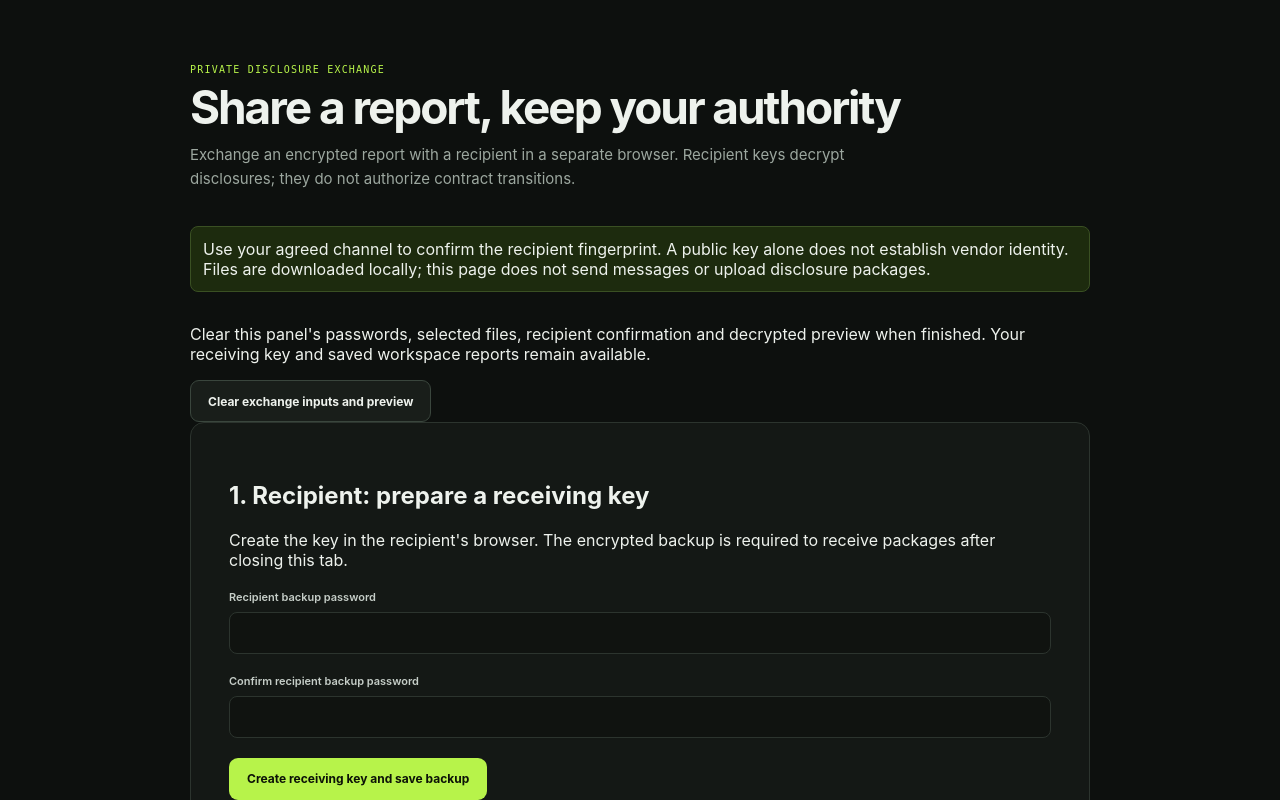
Test case: retries the same retained receiving key after encryption failure
Type "Synthetic receiving password" into the password field labelled "Recipient backup password".
click(640, 633); type("Synthetic receiving password")  # box 229,612 -> 1051,654
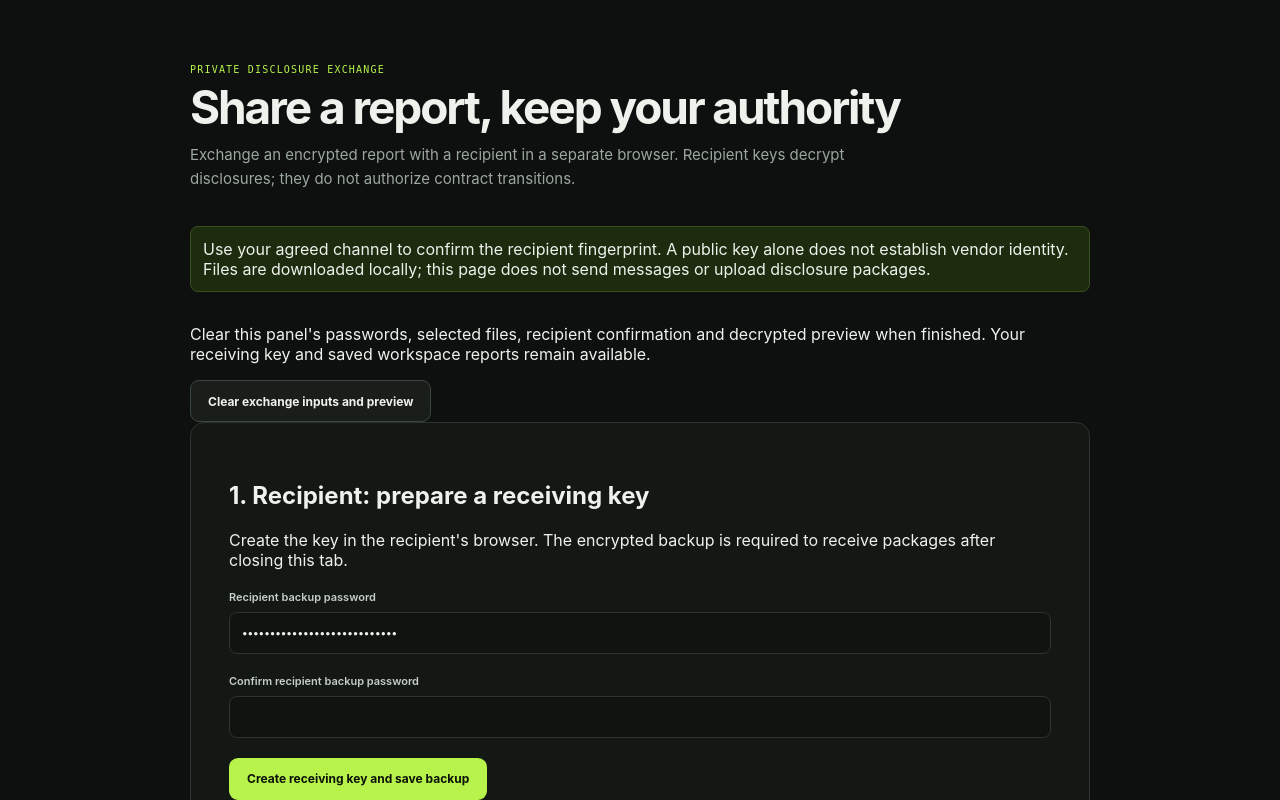
Type "Synthetic receiving password" into the password field labelled "Confirm recipient backup password".
click(640, 717); type("Synthetic receiving password")  # box 229,696 -> 1051,738
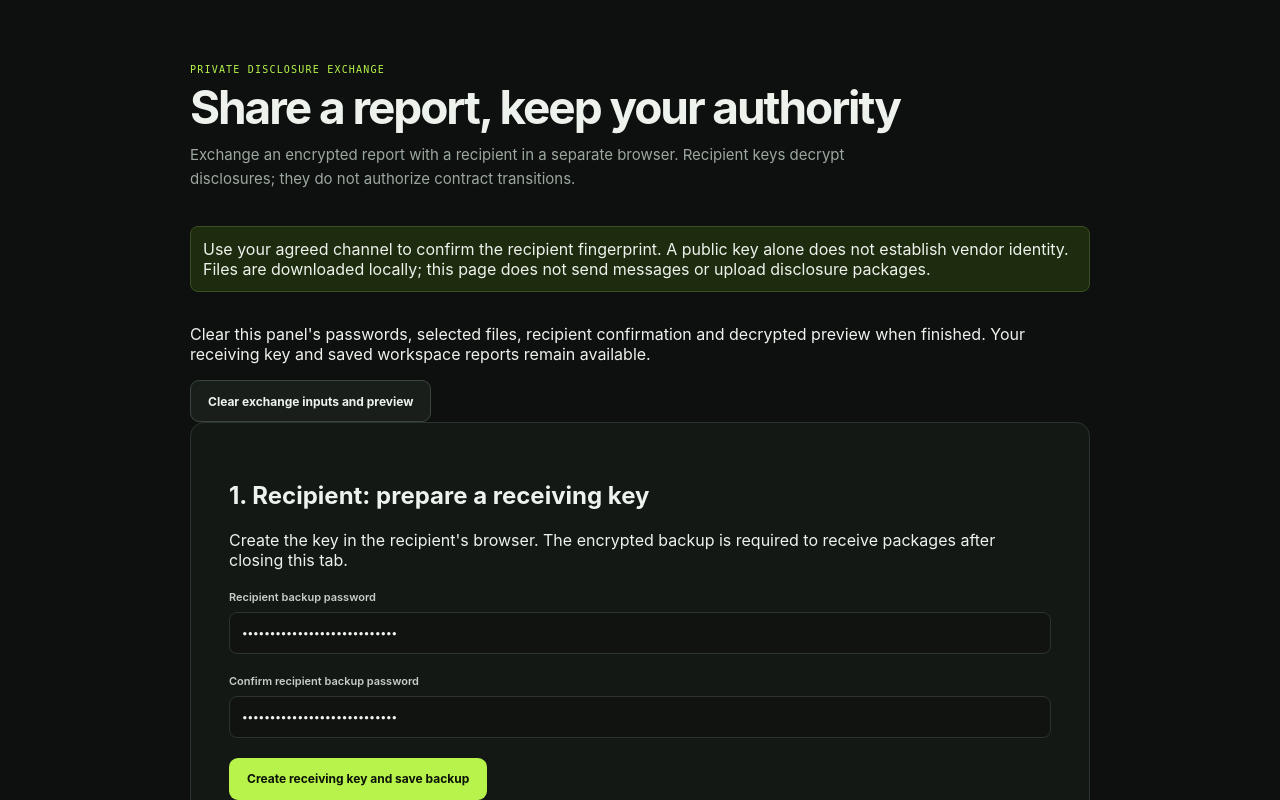
Submit the form named "Create receiving key and save backup", box 229,530 -> 1051,799
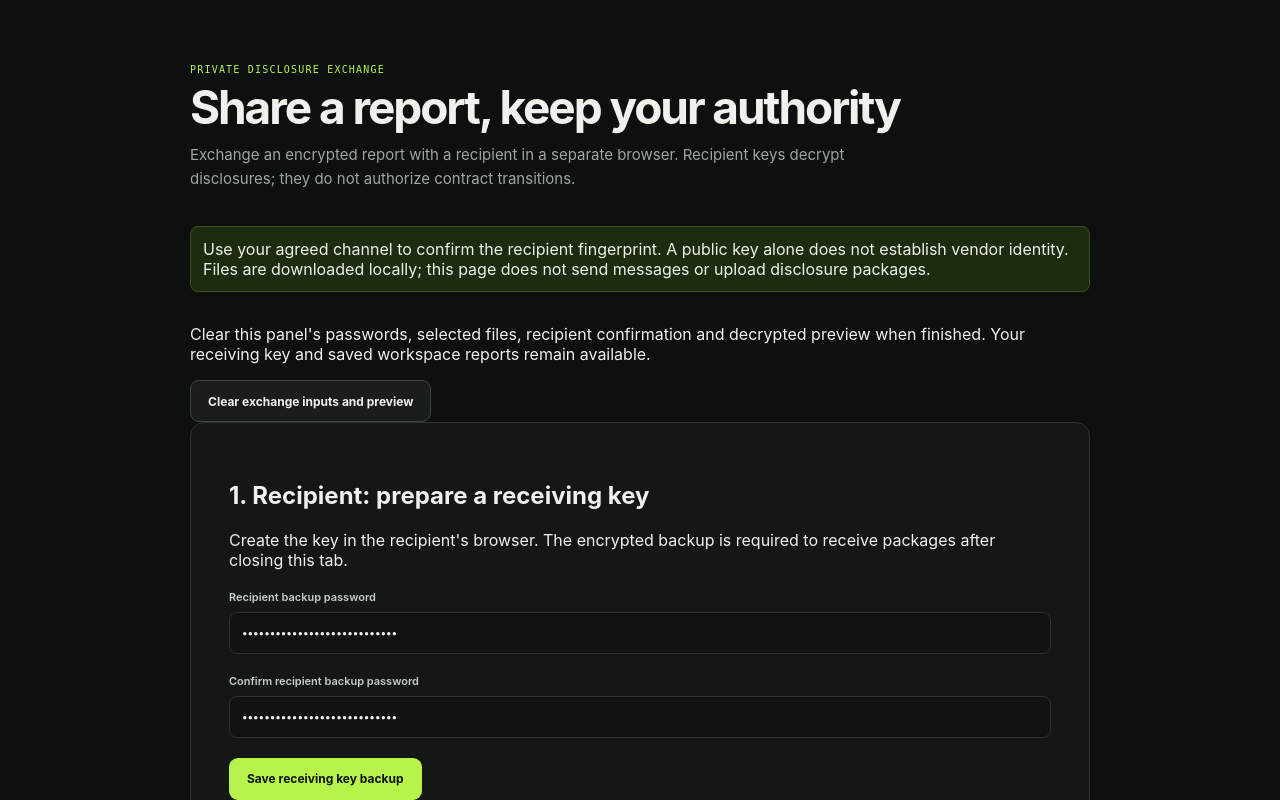
Click the button "Save receiving key backup".
click(325, 779)  # box 229,758 -> 422,799
(page scrolled)
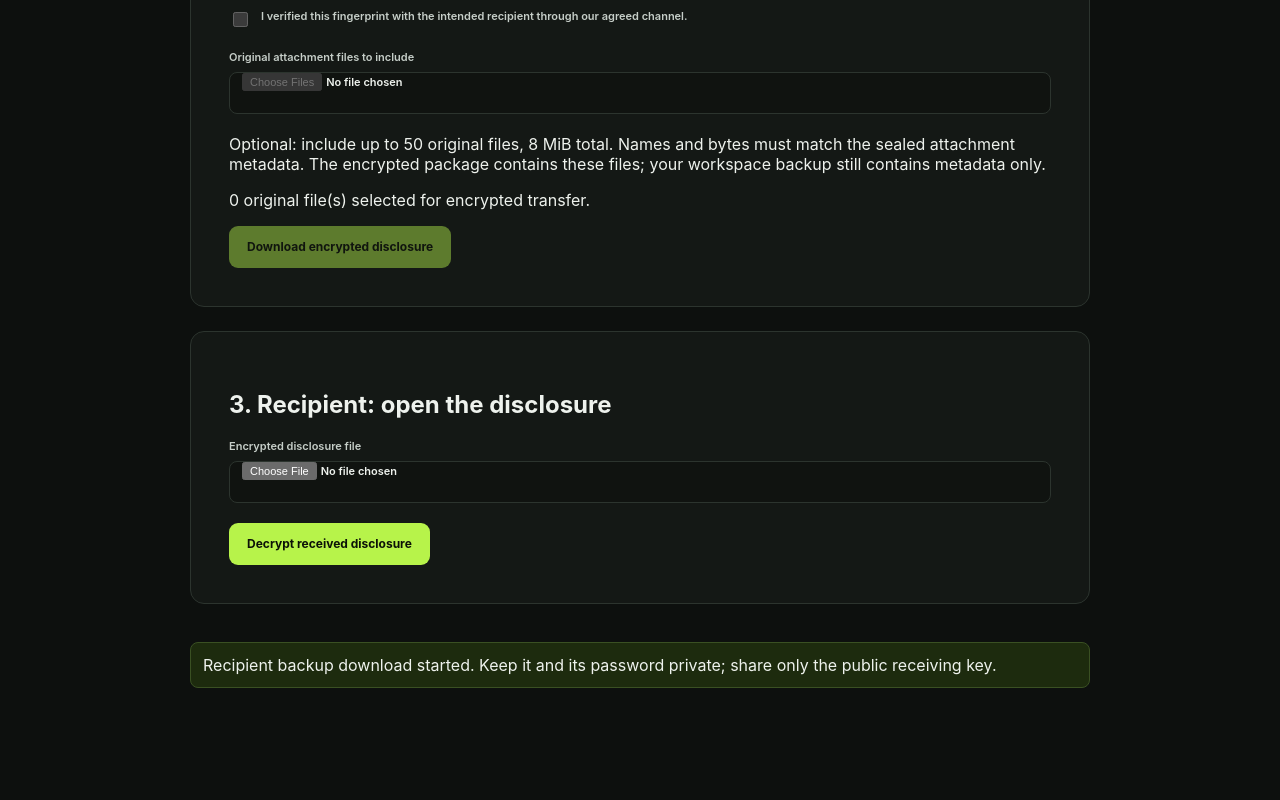
Result: the text "Recipient backup download started" is shown at 203,655 -> 996,675
